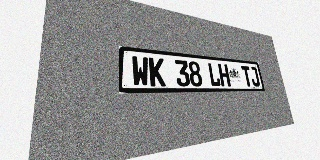3: (175, 60, 190, 86)
8: (188, 61, 203, 86)
H: (218, 64, 231, 86)
J: (249, 66, 260, 86)
K: (148, 57, 166, 86)
L: (207, 63, 221, 86)
T: (241, 66, 253, 86)
W: (131, 56, 150, 86)
